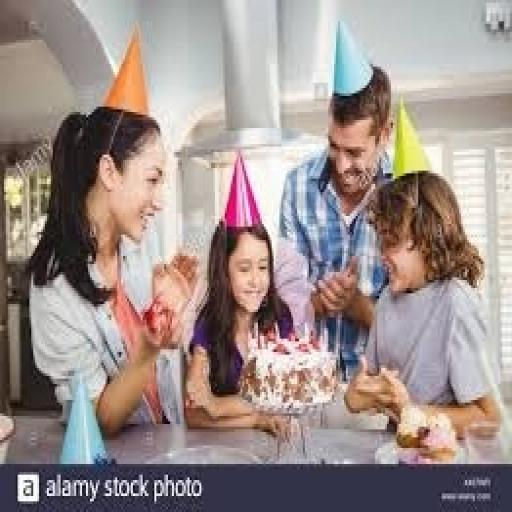clapping: (26, 101, 202, 435), (276, 21, 396, 379)
